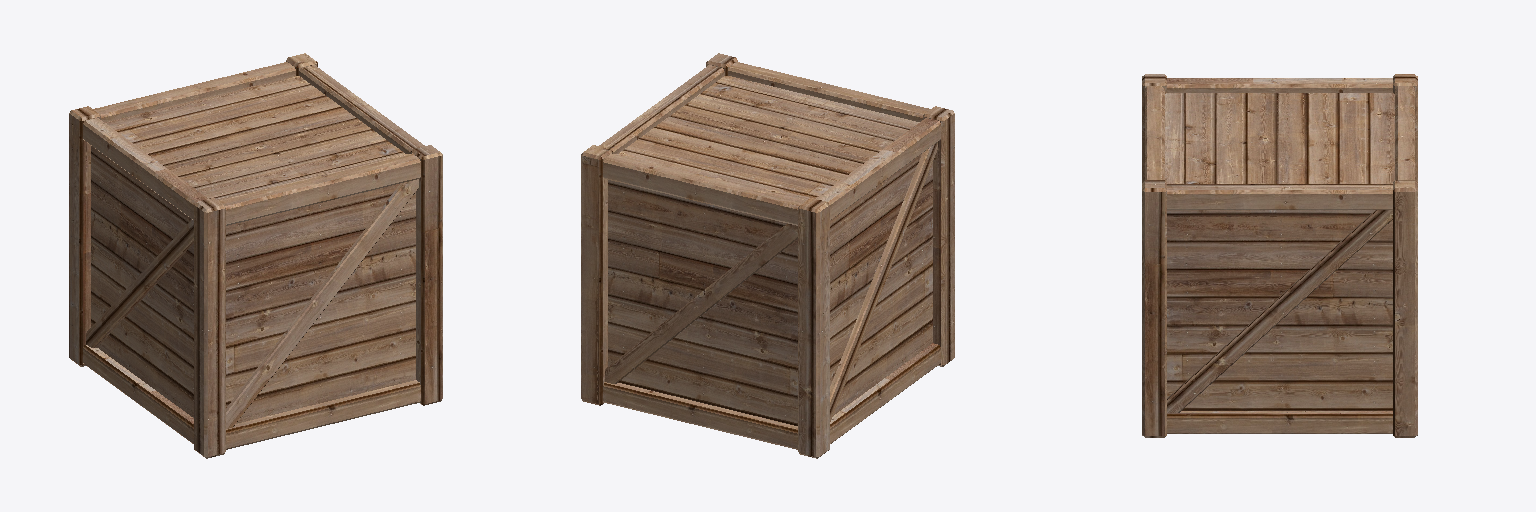
The picture shows the model from 3 angles: view 1: azimuth 30°, elevation 25°; view 2: azimuth 150°, elevation 25°; view 3: azimuth 270°, elevation 25°; orthographic projection.
Parts seen in each view (by area): view 1: box; view 2: box; view 3: box.
Part boxes in pixels (x1,y1,x2,y2): box: (69, 53, 442, 458); box: (581, 53, 954, 458); box: (1142, 74, 1417, 437).
Bounding box in the file's own units: 0.8301 × 0.8301 × 0.8301.
Materials: 1 (1 with a texture image).